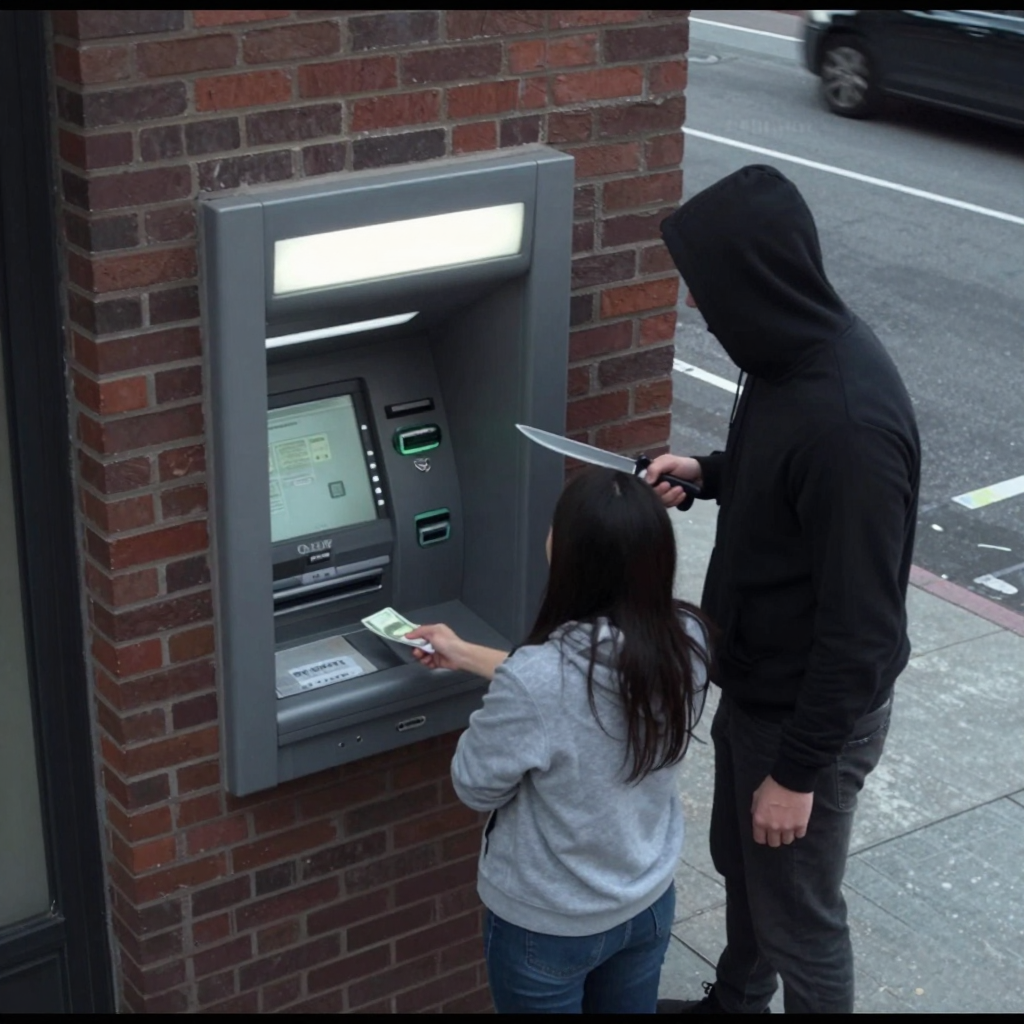Assault: (514, 423, 700, 504)
Robbery: (637, 162, 923, 1014), (407, 467, 718, 1015)
